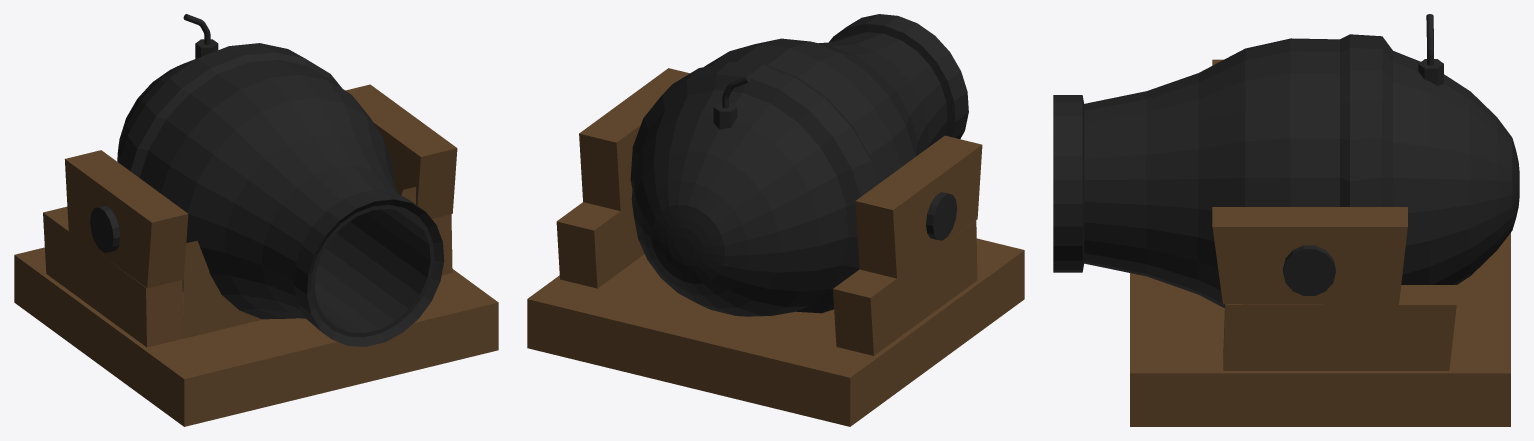
The model's file is Pocket Cannon.fbx.
3 views of the same model, side by side, from view 1: azimuth 30°, elevation 25°; view 2: azimuth 150°, elevation 25°; view 3: azimuth 270°, elevation 25° (orthographic). The views are drawn at different scales.
Visible parts, largest first — view 1: Circle; view 2: Circle; view 3: Circle.
Boxes of the visible parts, bbox=[...] form: Circle: bbox=[14, 14, 498, 426]; Circle: bbox=[527, 14, 1024, 426]; Circle: bbox=[1053, 14, 1519, 426].
Size of the model in its own units: 55.59 by 46.84 by 62.7.
